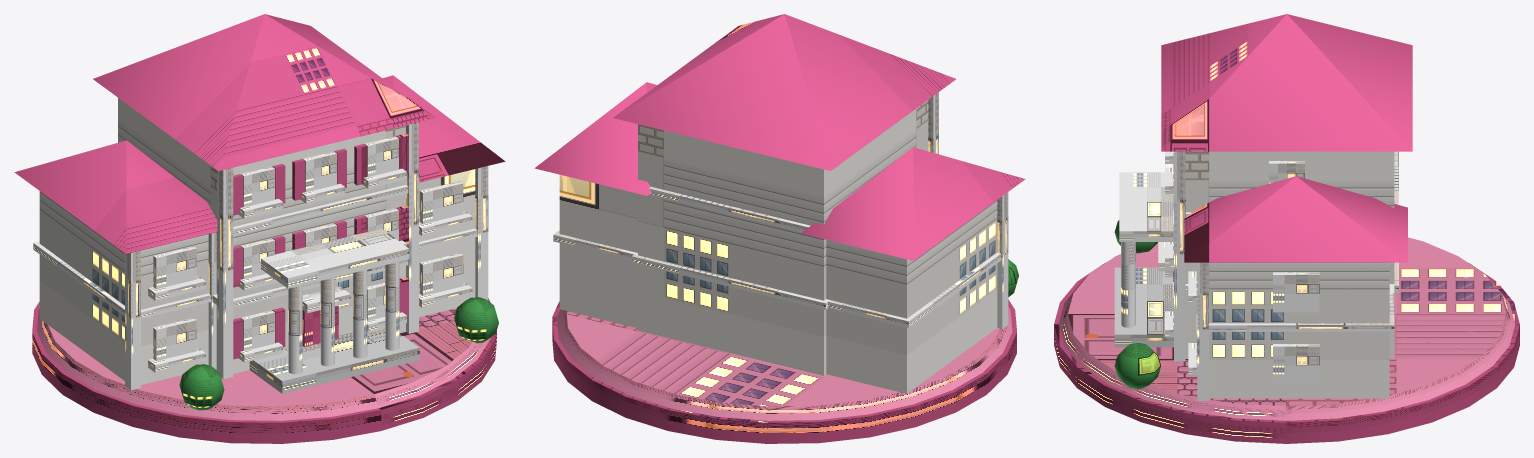
Rendered from tier-08-mansion.glb.
The picture shows the model from 3 angles, left to right: view 1: azimuth 30°, elevation 25°; view 2: azimuth 150°, elevation 25°; view 3: azimuth 270°, elevation 25°; orthographic projection.
Visible parts, largest first — view 1: toon; view 2: toon; view 3: toon.
Boxes of the visible parts, x1,y1,x2,y2 form: toon: (14, 14, 505, 443); toon: (534, 14, 1025, 443); toon: (1054, 14, 1519, 443).
Size of the model in its own units: 1 by 0.785 by 1.
Materials: 1 (1 with a texture image).
